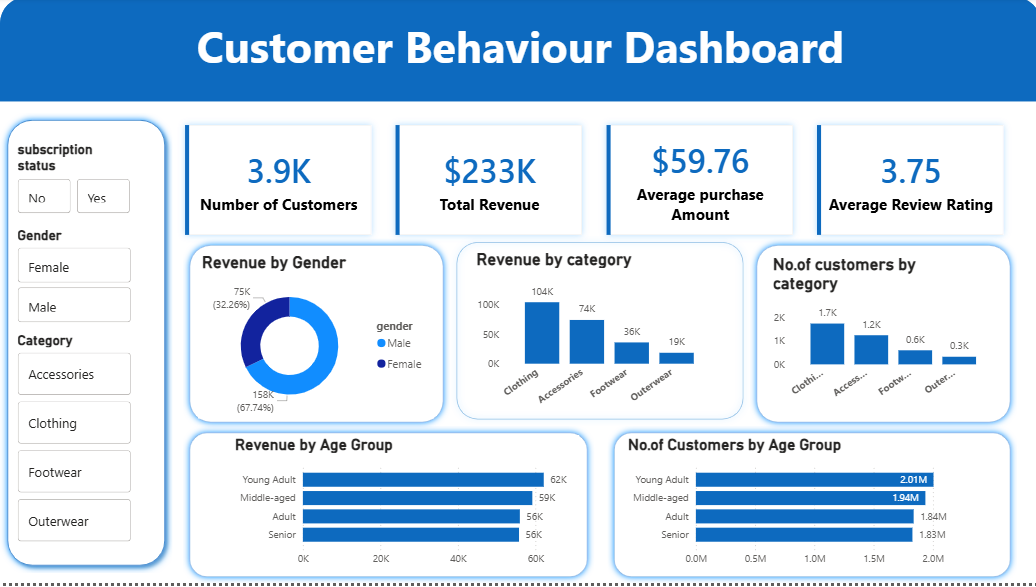

The page's visual inventory and layout, read from the dashboard file:
{"tool":"powerbi","page":{"name":"Page 1","canvas":[1280,720],"ordinal":0},"visuals":[{"type":"cardVisual","fields":{"Data":["customer_behaviour customer.Number of Customers","customer_behaviour customer.Total Revenue","customer_behaviour customer.Average purchase Amount","customer_behaviour customer.Average Review Rating"]},"box":[199.1,129,1065.5,191.7],"z":0},{"type":"shape","box":[0,0,1279.4,128.5],"z":1000},{"type":"textbox","box":[0,0,1279.4,128.5],"z":2000},{"type":"shape","box":[224.9,296.8,328.1,234.1],"z":3000},{"type":"donutChart","title":"Revenue by Gender","fields":{"Category":["customer_behaviour customer.gender"],"Y":["Sum(customer_behaviour customer.purchase_amount)"]},"box":[243.3,313.4,289.4,204.6],"z":4000},{"type":"clusteredColumnChart","title":"Revenue by category","fields":{"Y":["Sum(customer_behaviour customer.purchase_amount)"],"Category":["customer_behaviour customer.category"]},"box":[580.7,309.7,300.5,204.6],"z":5000},{"type":"shape","box":[921.8,296.8,328.1,234.1],"z":6000},{"type":"clusteredColumnChart","title":"No.of customers by category","fields":{"Category":["customer_behaviour customer.category"],"Y":["Count(customer_behaviour customer.customer_id)"]},"box":[936.5,307.9,300.5,204.6],"z":7000},{"type":"shape","box":[553.1,293.1,368.7,234.1],"z":8000},{"type":"textbox","box":[0,321,212,234],"z":9000},{"type":"shape","box":[0,142,212,566],"z":10000},{"type":"advancedSlicerVisual","title":"subscription status","fields":{"Values":["customer_behaviour customer.subscription_status"]},"box":[16.6,177,149.3,94],"z":11000},{"type":"advancedSlicerVisual","title":"Gender","fields":{"Values":["customer_behaviour customer.gender"]},"box":[16.6,282.1,149.3,123.5],"z":12000},{"type":"advancedSlicerVisual","title":"Category","fields":{"Values":["customer_behaviour customer.category"]},"box":[16.6,411.1,149.3,265.5],"z":13000},{"type":"shape","box":[224.9,527.2,505.1,193.6],"z":14000},{"type":"clusteredBarChart","title":"Revenue by Age Group","fields":{"Category":["customer_behaviour customer.age_group"],"Y":["Sum(customer_behaviour customer.purchase_amount)"]},"box":[283.9,538.3,427.7,169.6],"z":15000},{"type":"shape","box":[746.6,527.2,503.3,193.6],"z":16000},{"type":"clusteredBarChart","title":"No.of Customers by Age Group","fields":{"Category":["customer_behaviour customer.age_group"],"Y":["Sum(customer_behaviour customer.customer_id)"]},"box":[766.9,538.3,427.7,169.6],"z":17000}]}

Visuals, with their boxes in screenshot pixels (x1, y1, x2, y2), scaled from the page's 1280x720 canvas onto the 1036x587 screenshot:
cardVisual - customer_behaviour customer.Number of Customers x customer_behaviour customer.Total Revenue: left=161, top=105, right=1024, bottom=261
shape: left=0, top=0, right=1035, bottom=105
textbox: left=0, top=0, right=1035, bottom=105
shape: left=182, top=242, right=448, bottom=433
"Revenue by Gender" donutChart: left=197, top=256, right=431, bottom=422
"Revenue by category" clusteredColumnChart: left=470, top=252, right=713, bottom=419
shape: left=746, top=242, right=1012, bottom=433
"No.of customers by category" clusteredColumnChart: left=758, top=251, right=1001, bottom=418
shape: left=448, top=239, right=746, bottom=430
textbox: left=0, top=262, right=172, bottom=452
shape: left=0, top=116, right=172, bottom=577
"subscription status" advancedSlicerVisual: left=13, top=144, right=134, bottom=221
"Gender" advancedSlicerVisual: left=13, top=230, right=134, bottom=331
"Category" advancedSlicerVisual: left=13, top=335, right=134, bottom=552
shape: left=182, top=430, right=591, bottom=586
"Revenue by Age Group" clusteredBarChart: left=230, top=439, right=576, bottom=577
shape: left=604, top=430, right=1012, bottom=586
"No.of Customers by Age Group" clusteredBarChart: left=621, top=439, right=967, bottom=577
